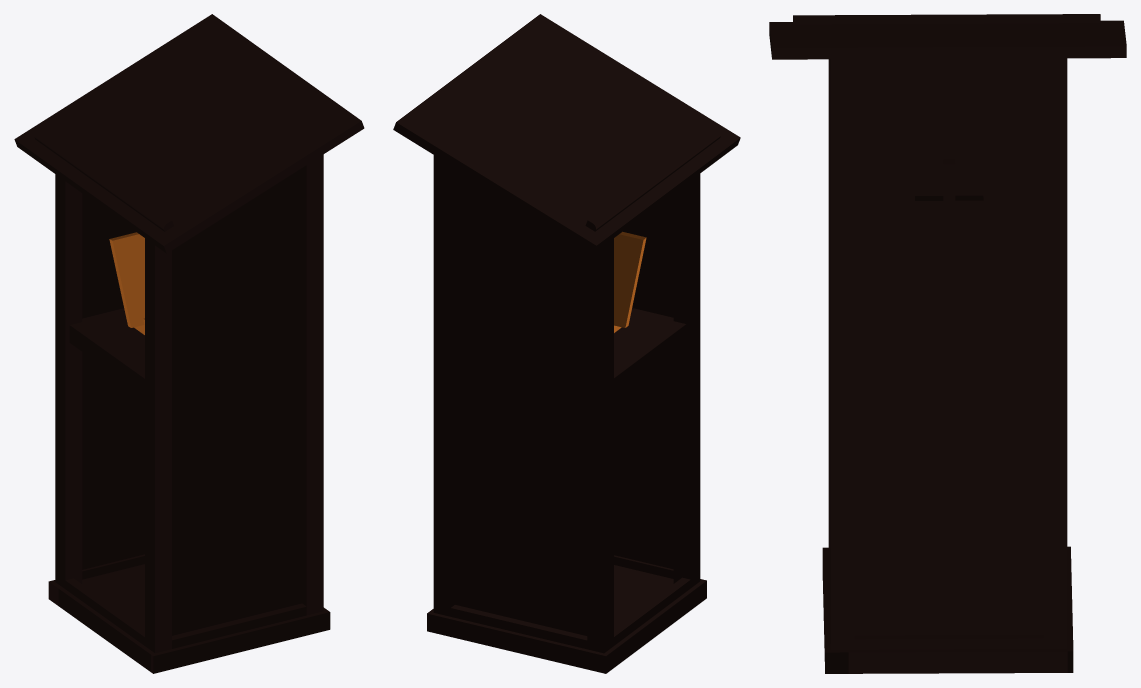
The model's file is pulp.FBX.
3 renders of one model, left to right at view 1: azimuth 30°, elevation 25°; view 2: azimuth 150°, elevation 25°; view 3: azimuth 270°, elevation 25°, orthographic. The views are drawn at different scales.
Visible parts, largest first — view 1: Cube.033; view 2: Cube.033; view 3: Cube.033.
Boxes of the visible parts, bbox=[...] form: Cube.033: bbox=[14, 14, 364, 673]; Cube.033: bbox=[393, 14, 740, 673]; Cube.033: bbox=[769, 14, 1126, 673].
Bounding box in the file's own units: 4416 × 10780 × 5531.
